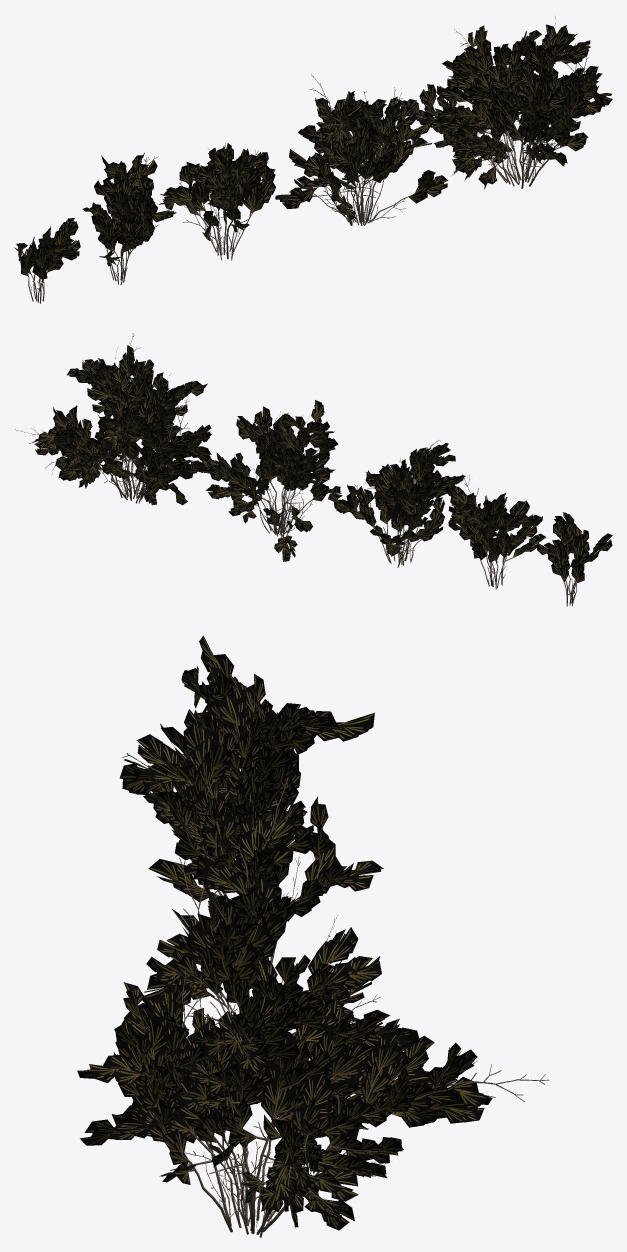
The model's file is wild_rooibos_bush.glb.
3 renders of one model, top to bottom at view 1: azimuth 30°, elevation 25°; view 2: azimuth 150°, elevation 25°; view 3: azimuth 270°, elevation 25°, orthographic. The views are drawn at different scales.
Parts seen in each view (by area): view 1: wild_rooibos_bush_a, wild_rooibos_bush_b, wild_rooibos_bush_c, wild_rooibos_bush_d, wild_rooibos_bush_e; view 2: wild_rooibos_bush_a, wild_rooibos_bush_b, wild_rooibos_bush_c, wild_rooibos_bush_d, wild_rooibos_bush_e; view 3: wild_rooibos_bush_a, wild_rooibos_bush_b, wild_rooibos_bush_c, wild_rooibos_bush_d, wild_rooibos_bush_e.
Part boxes in pixels (left/top/right/bottom): wild_rooibos_bush_a: left=397, top=16, right=612, bottom=189; wild_rooibos_bush_b: left=275, top=74, right=447, bottom=226; wild_rooibos_bush_c: left=158, top=143, right=275, bottom=260; wild_rooibos_bush_d: left=82, top=152, right=176, bottom=284; wild_rooibos_bush_e: left=14, top=218, right=80, bottom=303; wild_rooibos_bush_a: left=15, top=333, right=218, bottom=505; wild_rooibos_bush_b: left=201, top=400, right=342, bottom=561; wild_rooibos_bush_c: left=328, top=440, right=465, bottom=567; wild_rooibos_bush_d: left=445, top=473, right=546, bottom=589; wild_rooibos_bush_e: left=537, top=512, right=612, bottom=606; wild_rooibos_bush_a: left=77, top=958, right=549, bottom=1237; wild_rooibos_bush_b: left=138, top=779, right=381, bottom=1038; wild_rooibos_bush_c: left=119, top=718, right=383, bottom=963; wild_rooibos_bush_d: left=160, top=674, right=374, bottom=810; wild_rooibos_bush_e: left=181, top=635, right=272, bottom=755.
Size of the model in its own units: 2.28 by 0.5413 by 0.8434.
3 materials, 3 textured.
